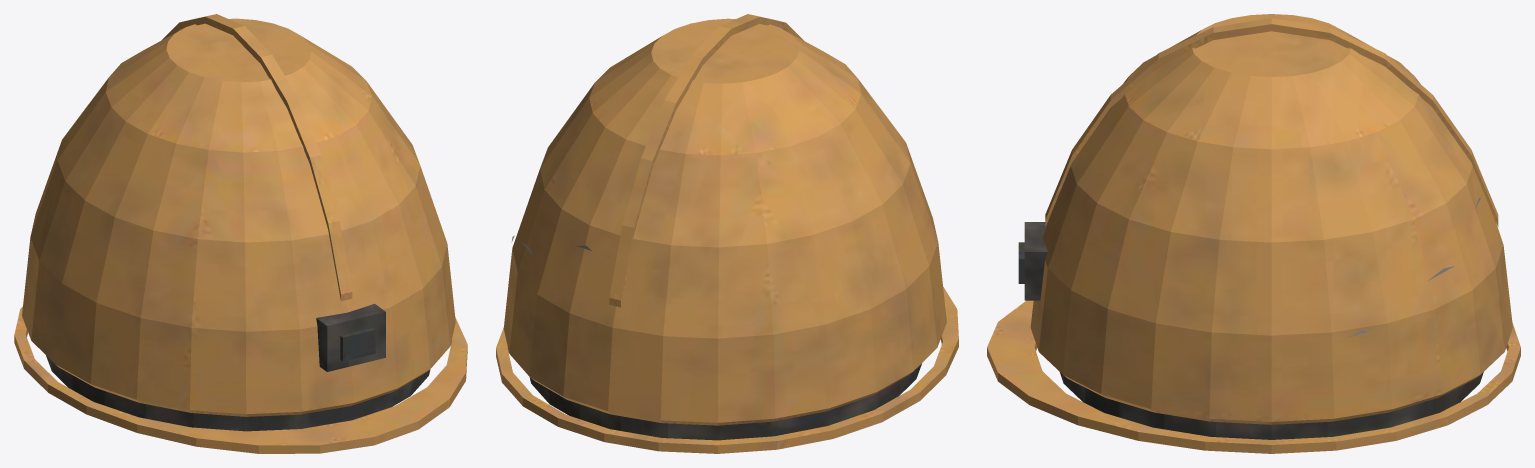
The model's file is CS16_hard_hats_v2.glb.
The picture shows the model from 3 angles, left to right: view 1: azimuth 30°, elevation 25°; view 2: azimuth 150°, elevation 25°; view 3: azimuth 270°, elevation 25°; orthographic projection. The views are drawn at different scales.
Visible parts, largest first — view 1: Hollow molded crown; view 2: Hollow molded crown; view 3: Hollow molded crown.
Part boxes in pixels (x1=…): Hollow molded crown: x1=14, y1=14, x2=467, y2=453; Hollow molded crown: x1=496, y1=14, x2=958, y2=453; Hollow molded crown: x1=987, y1=14, x2=1520, y2=453.
Bounding box in the file's own units: 0.26 × 0.2111 × 0.3.
4 materials, 4 textured.
